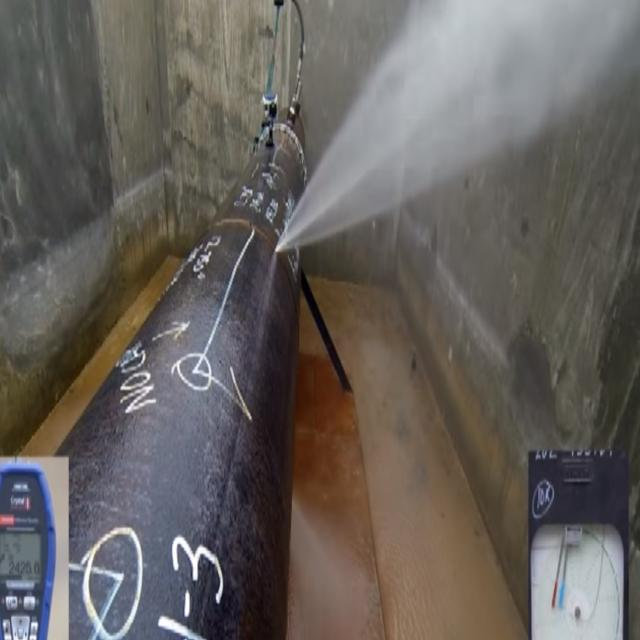leak: (272, 0, 640, 259)
